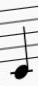note: (6, 6, 34, 79)
